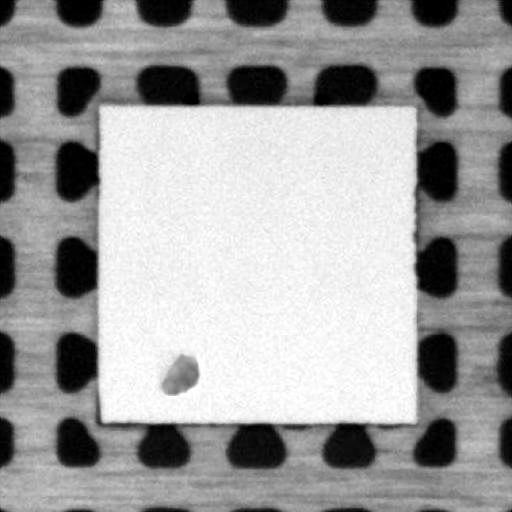DIE_INK: (150, 344, 204, 404)
